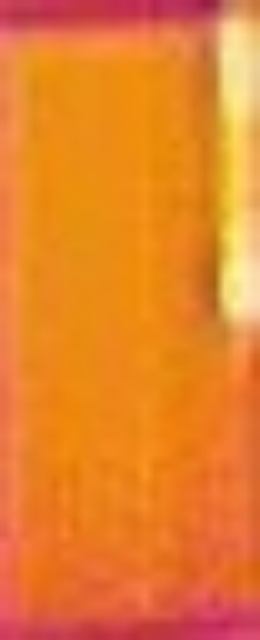Diode: (209, 1, 260, 336)
